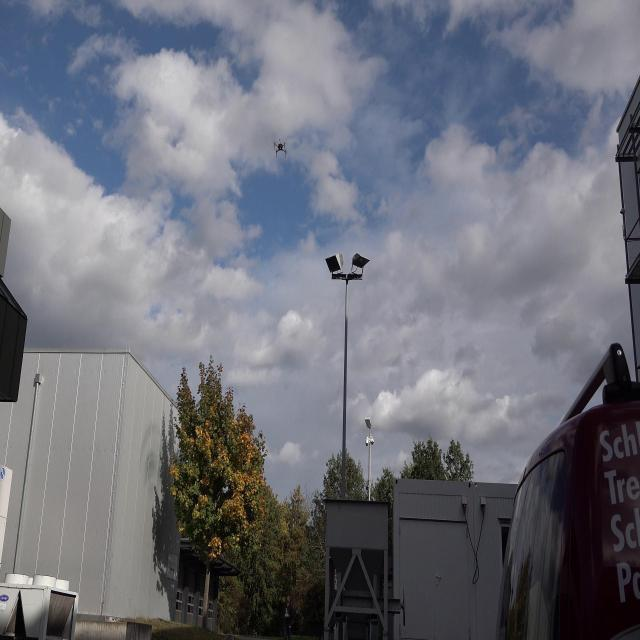drone: (272, 136, 294, 161)
